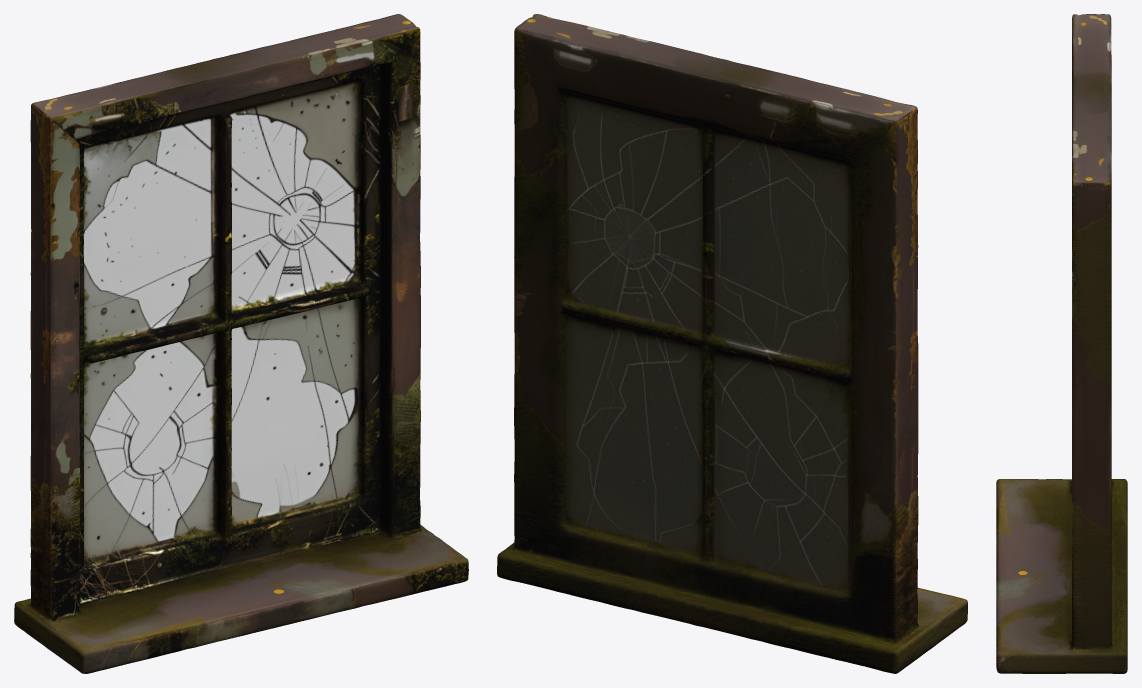
The model's file is base_basic_pbr.fbx.
3 renders of one model, left to right at view 1: azimuth 30°, elevation 25°; view 2: azimuth 150°, elevation 25°; view 3: azimuth 270°, elevation 25°, orthographic. The views are drawn at different scales.
Parts seen in each view (by area): view 1: model; view 2: model; view 3: model.
Boxes of the visible parts, x1=… form: model: x1=14, y1=14, x2=468, y2=673; model: x1=497, y1=14, x2=967, y2=673; model: x1=996, y1=14, x2=1127, y2=673.
Size of the model in its own units: 140 by 182 by 44.12.
1 material, 1 textured.
